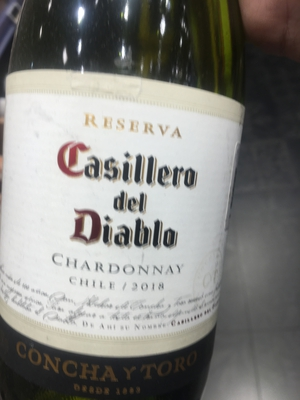casillero del diablo chardonnay: (3, 38, 247, 400)
